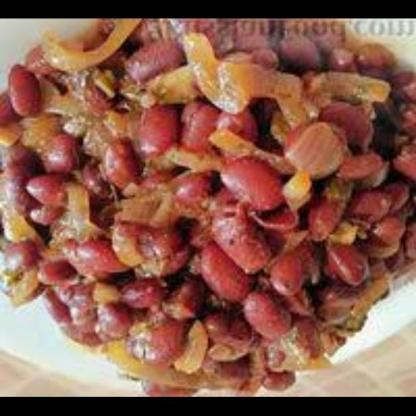fasol: (0, 23, 416, 396)
